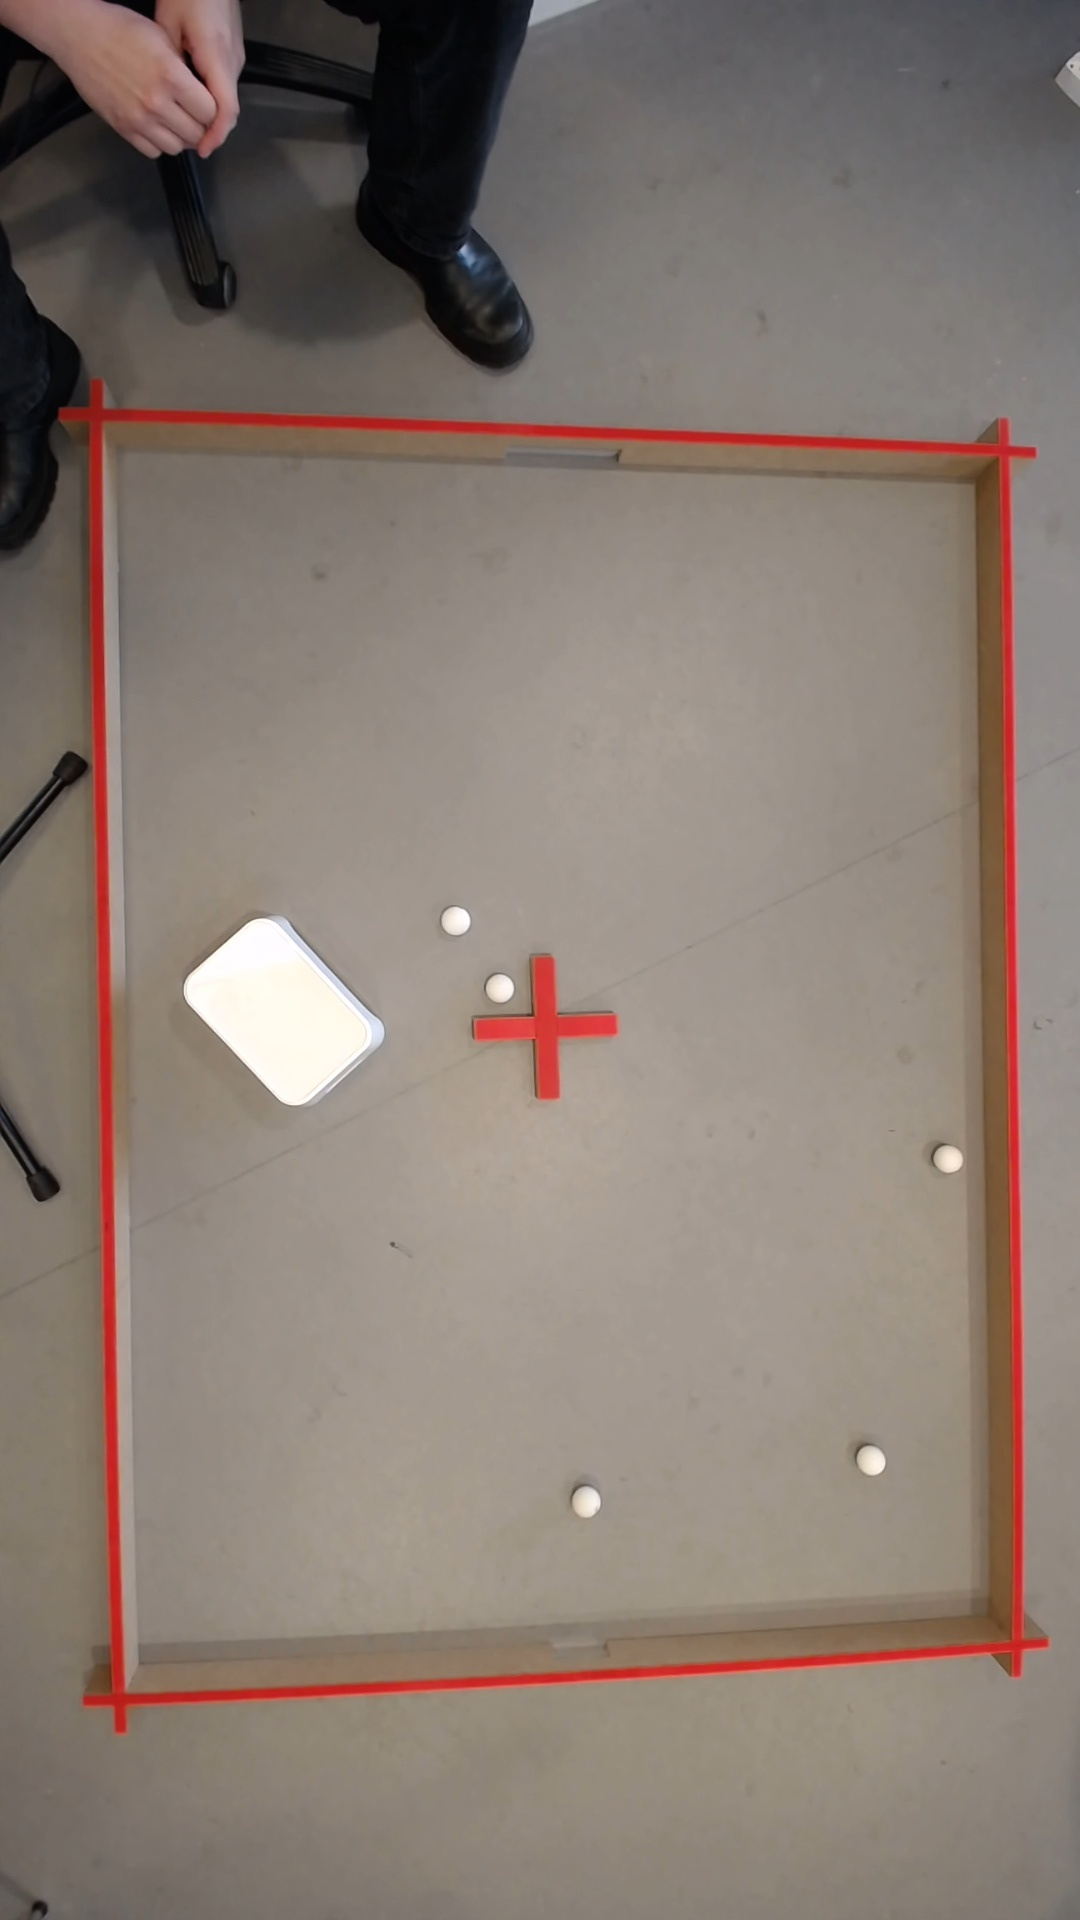balls: (173, 899, 390, 1120), (167, 58, 219, 108), (438, 901, 473, 939), (570, 1484, 604, 1520), (483, 969, 517, 1005), (855, 1444, 889, 1477), (934, 1143, 967, 1176)
car: (208, 61, 236, 102)
